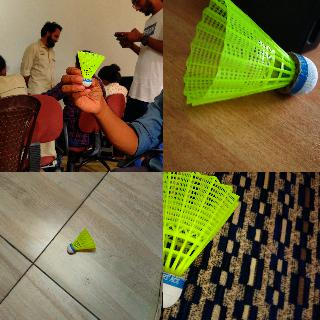shuttlecock: (183, 0, 318, 106), (163, 172, 240, 309), (76, 50, 104, 86), (66, 229, 94, 255)
